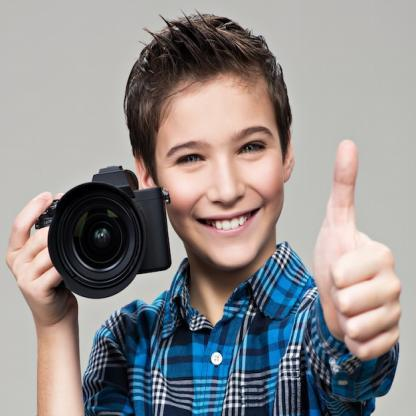thumb_up: (312, 135, 404, 362)
